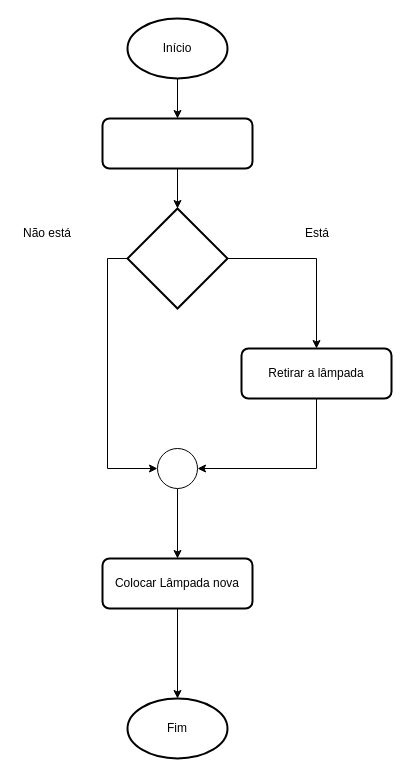
The diagram is 409 pixels wide and 776 high, and some of its shapes have lost their labels. Each missing label, with the box of its shape:
a lâmpada queimada esta no bocal?: (126, 207, 228, 309)
Pegar Lampada nova: (101, 117, 253, 169)
